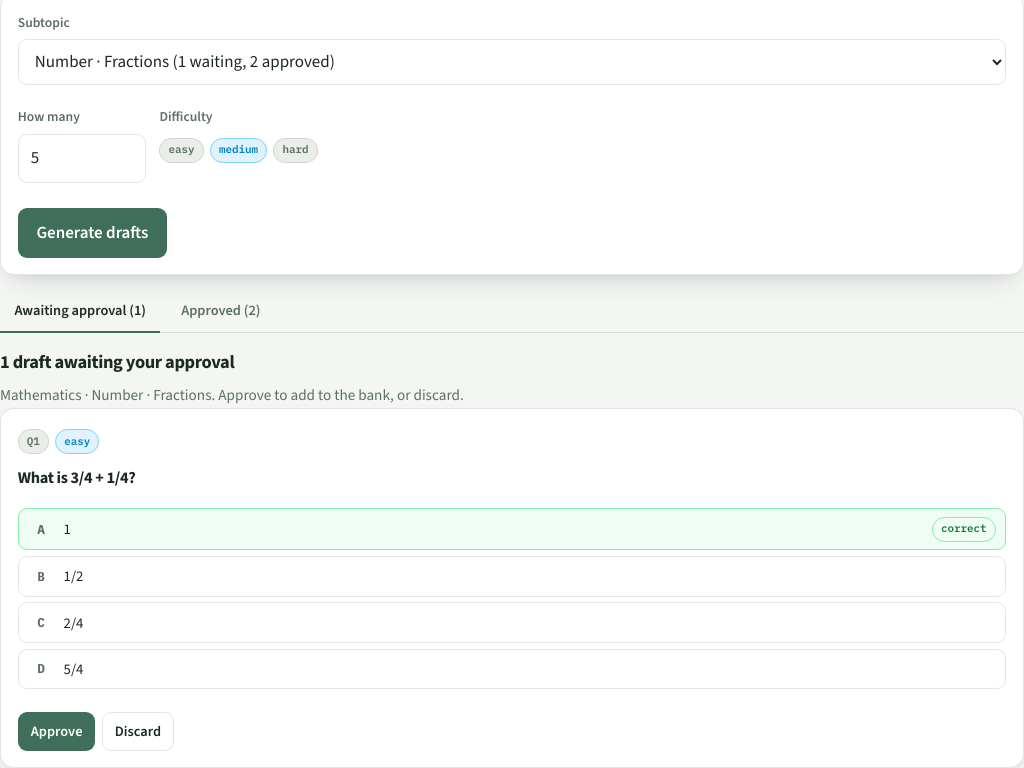
Test: QuestionBankPage › says a discard was archived, not deleted
(page scrolled)
Expected: the heading "What is 3/4 + 1/4?" is shown, [18,467,136,488]
Step 1. Click the button "Discard" → [138, 732], box [102,712,174,751]
(page scrolled)
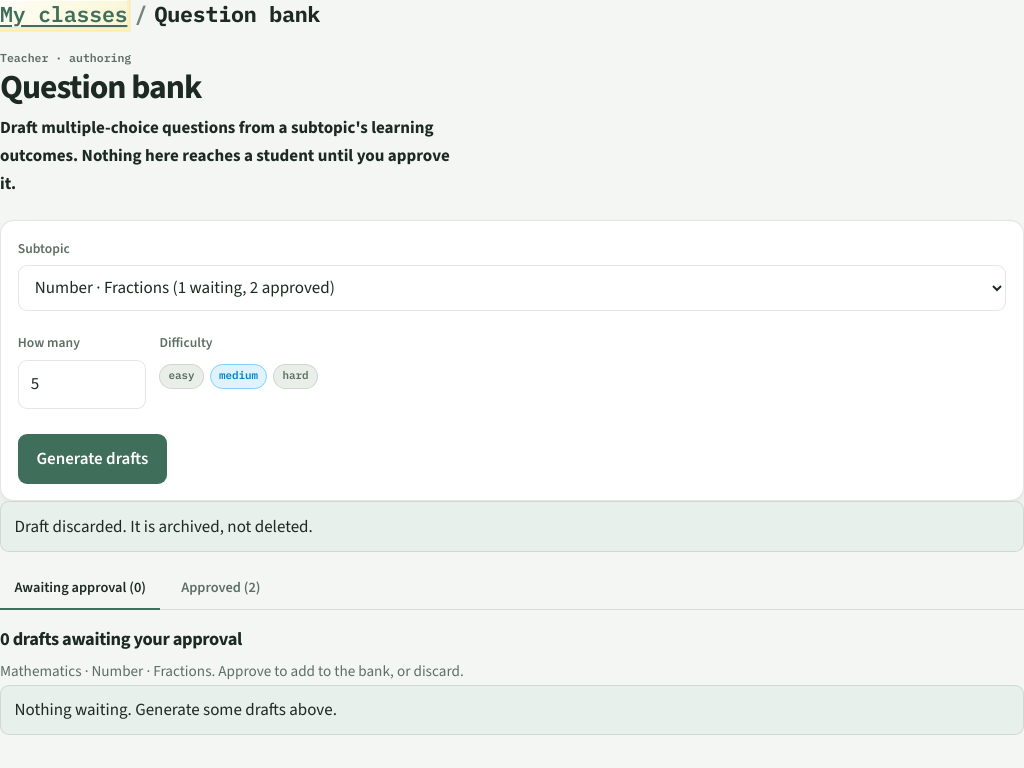
Result: the text "Draft discarded. It is archived, not deleted." is shown at [0,501,1023,552]
